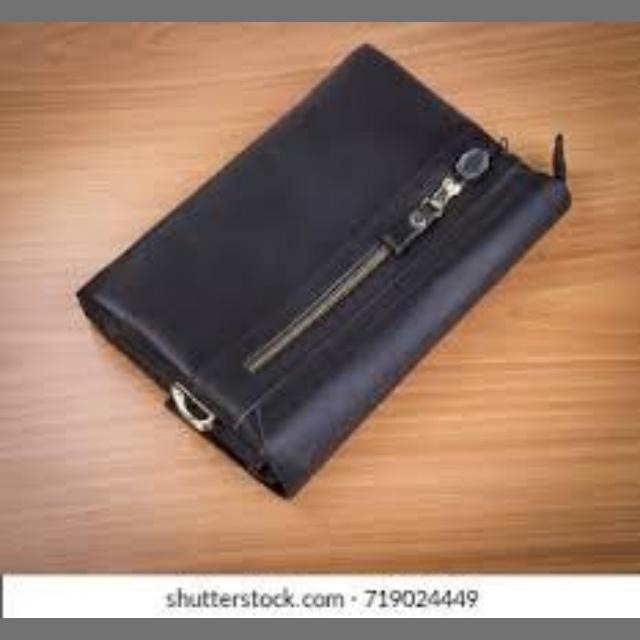Wallet: (69, 59, 585, 501)
